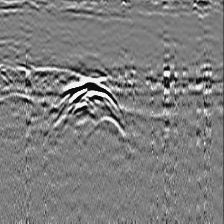cavities: (54, 76, 124, 136)
